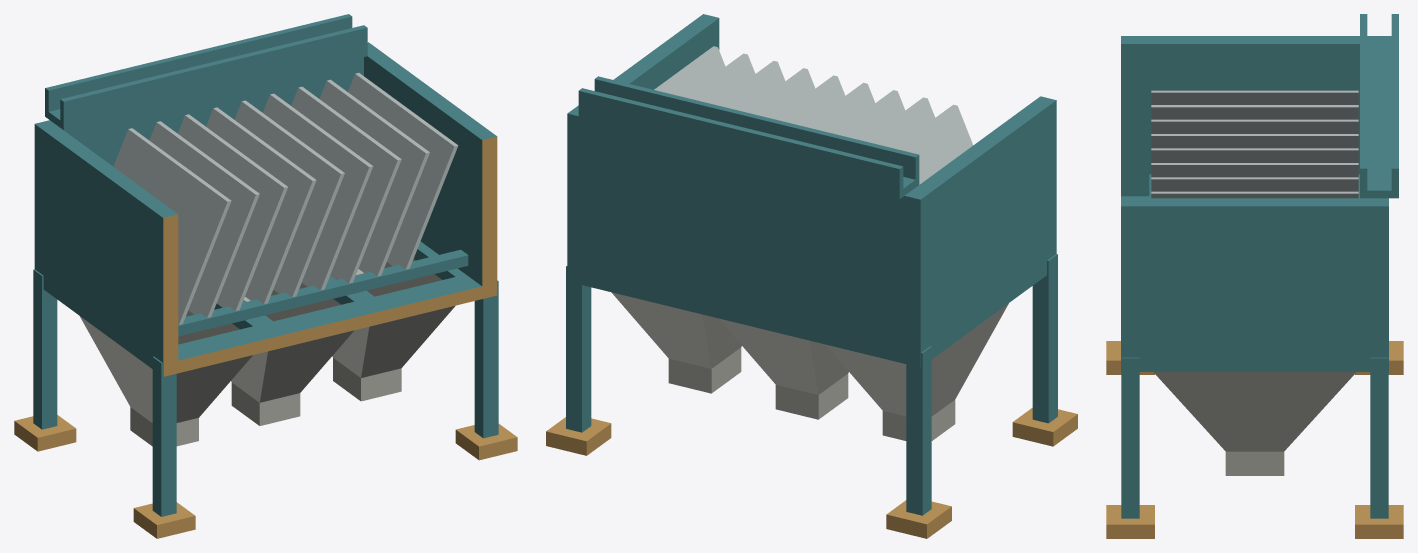
3 renders of one model, left to right at view 1: azimuth 30°, elevation 25°; view 2: azimuth 150°, elevation 25°; view 3: azimuth 270°, elevation 25°, orthographic. The views are drawn at different scales.
Visible parts, largest first — view 1: WholeFrontCutawayVesselAndThreeOpenings, WholeHighRearOpenCollectionTrough, WholeInclinedPlainPlate00, WholeOpenTaperedHopper0, WholeOpenTaperedHopper1, WholeOpenTaperedHopper2, WholeInclinedPlainPlate02, WholeInclinedPlainPlate01, WholeInclinedPlainPlate03, WholeInclinedPlainPlate04, WholeInclinedPlainPlate06, WholeInclinedPlainPlate05 (+9 smaller); view 2: WholeFrontCutawayVesselAndThreeOpenings, WholeHighRearOpenCollectionTrough, WholeOpenTaperedHopper0, WholeOpenTaperedHopper2, WholeOpenTaperedHopper1, WholeStandLeg-1.59_1.02, WholeStandLeg-1.59_-1.02, WholeStandLeg1.59_1.02, WholeInclinedPlainPlate00, WholeStandGroundPad-1.59_1.02, WholeStandGroundPad-1.59_-1.02, WholeStandGroundPad1.59_1.02 (+8 smaller); view 3: WholeFrontCutawayVesselAndThreeOpenings, WholeOpenTaperedHopper2, WholeHighRearOpenCollectionTrough, WholeInclinedPlainPlate00, WholeInclinedPlainPlate01, WholeInclinedPlainPlate02, WholeInclinedPlainPlate03, WholeInclinedPlainPlate04, WholeInclinedPlainPlate05, WholeInclinedPlainPlate06, WholeStandLeg1.59_-1.02, WholeStandLeg1.59_1.02 (+5 smaller).
Part boxes in pixels (left/top/right/bottom): WholeFrontCutawayVesselAndThreeOpenings: left=34, top=42, right=497, bottom=376; WholeHighRearOpenCollectionTrough: left=45, top=14, right=367, bottom=130; WholeInclinedPlainPlate00: left=113, top=128, right=231, bottom=324; WholeOpenTaperedHopper0: left=80, top=310, right=252, bottom=446; WholeOpenTaperedHopper1: left=231, top=283, right=354, bottom=425; WholeOpenTaperedHopper2: left=332, top=259, right=455, bottom=401; WholeInclinedPlainPlate02: left=177, top=114, right=287, bottom=310; WholeInclinedPlainPlate01: left=149, top=121, right=259, bottom=317; WholeInclinedPlainPlate03: left=206, top=107, right=316, bottom=303; WholeInclinedPlainPlate04: left=234, top=100, right=344, bottom=297; WholeInclinedPlainPlate06: left=291, top=86, right=401, bottom=283; WholeInclinedPlainPlate05: left=263, top=93, right=373, bottom=290; WholeFrontCutawayVesselAndThreeOpenings: left=567, top=14, right=1056, bottom=367; WholeHighRearOpenCollectionTrough: left=578, top=76, right=919, bottom=199; WholeOpenTaperedHopper0: left=826, top=303, right=1008, bottom=440; WholeOpenTaperedHopper2: left=611, top=292, right=741, bottom=393; WholeOpenTaperedHopper1: left=718, top=318, right=848, bottom=419; WholeStandLeg-1.59_1.02: left=906, top=346, right=931, bottom=515; WholeStandLeg-1.59_-1.02: left=1032, top=254, right=1057, bottom=423; WholeStandLeg1.59_1.02: left=566, top=266, right=591, bottom=432; WholeInclinedPlainPlate00: left=894, top=104, right=973, bottom=184; WholeStandGroundPad-1.59_1.02: left=886, top=500, right=951, bottom=538; WholeStandGroundPad-1.59_-1.02: left=1012, top=408, right=1077, bottom=446; WholeStandGroundPad1.59_1.02: left=546, top=417, right=611, bottom=455; WholeFrontCutawayVesselAndThreeOpenings: left=1121, top=36, right=1388, bottom=371; WholeOpenTaperedHopper2: left=1153, top=372, right=1356, bottom=475; WholeHighRearOpenCollectionTrough: left=1360, top=14, right=1398, bottom=198; WholeInclinedPlainPlate00: left=1151, top=90, right=1358, bottom=104; WholeInclinedPlainPlate01: left=1151, top=105, right=1358, bottom=119; WholeInclinedPlainPlate02: left=1151, top=119, right=1358, bottom=133; WholeInclinedPlainPlate03: left=1151, top=134, right=1358, bottom=148; WholeInclinedPlainPlate04: left=1151, top=148, right=1358, bottom=162; WholeInclinedPlainPlate05: left=1151, top=163, right=1358, bottom=177; WholeInclinedPlainPlate06: left=1151, top=177, right=1358, bottom=191; WholeStandLeg1.59_-1.02: left=1121, top=357, right=1139, bottom=518; WholeStandLeg1.59_1.02: left=1370, top=357, right=1388, bottom=518.
Bounding box in the file's own units: 3.56 × 3.22 × 2.44.
